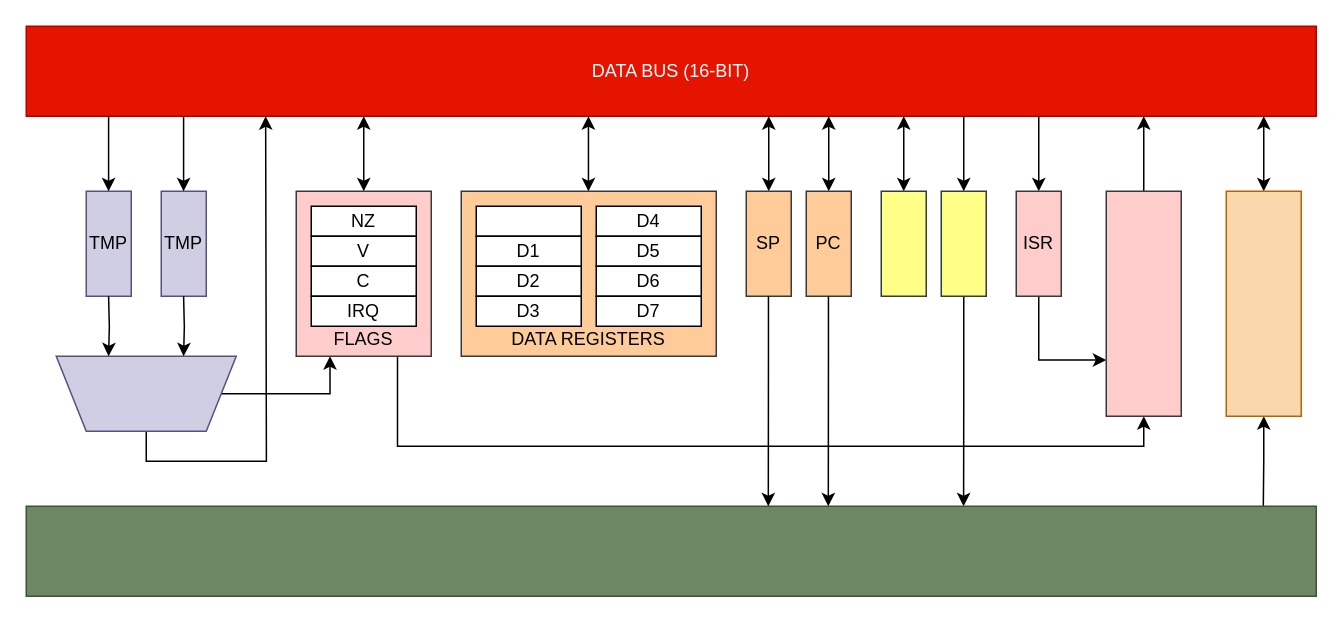
Some shapes in this 1343 by 623 pixel diagram are drawn without their labels. The box of each missing label's shape, as (x1, y1, x2, y2) in pixels:
ADDRESS BUS (16-BIT): (25, 505, 1316, 596)
ALU: (55, 355, 236, 431)
CTRL: (1105, 190, 1181, 416)
D0: (475, 205, 581, 236)
MAR: (940, 190, 986, 296)
MDR: (880, 190, 926, 296)
MEM: (1225, 190, 1301, 416)
